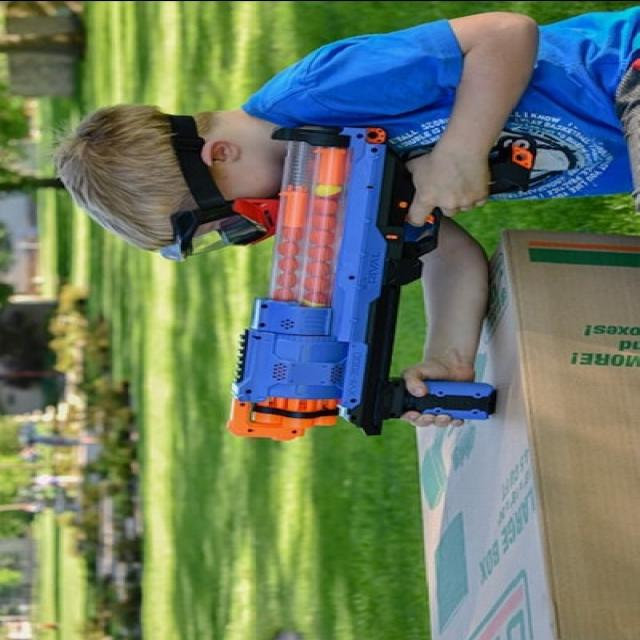Nerf gun: (214, 124, 548, 446)
